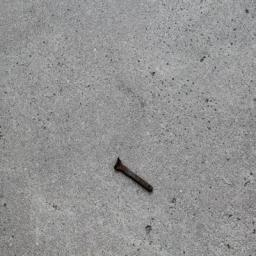FOD: (111, 155, 157, 195)
